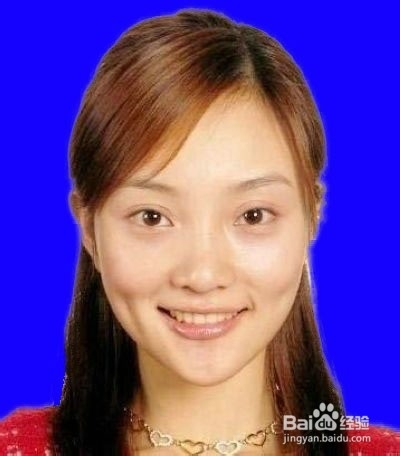unmask: (106, 128, 306, 364)
